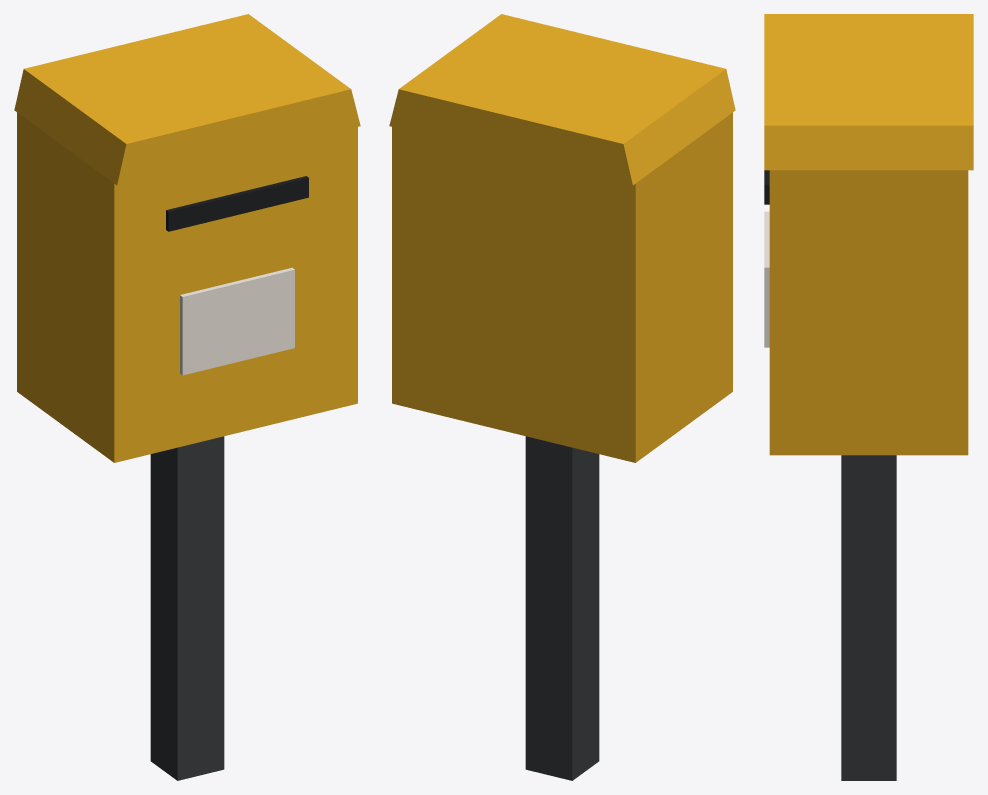
Rendered from getkong-hhpost.glb.
3 renders of one model, left to right at view 1: azimuth 30°, elevation 25°; view 2: azimuth 150°, elevation 25°; view 3: azimuth 270°, elevation 25°, orthographic.
Visible parts, largest first — view 1: post; view 2: post; view 3: post.
Part boxes in pixels (<box>): post: <box>14,14,360,780</box>; post: <box>389,14,735,780</box>; post: <box>764,14,973,780</box>.
Bounding box in the file's own units: 0.52 × 1.4 × 0.38.
